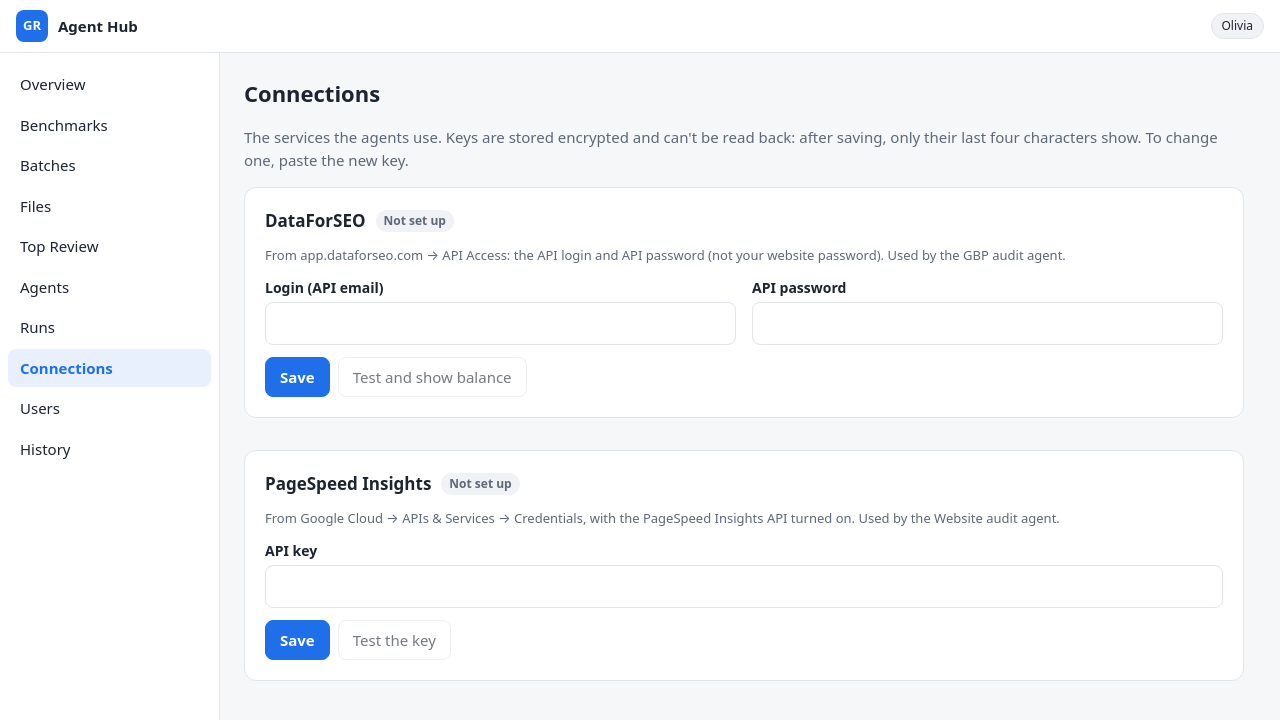
the Owner saves a login and password; only what was typed is sent
The width and height of the screenshot is (1280, 720).
Step 1. Type "me@gr.com" into the field labelled "Login (API email)" → (500, 323), box [265, 302, 736, 344]
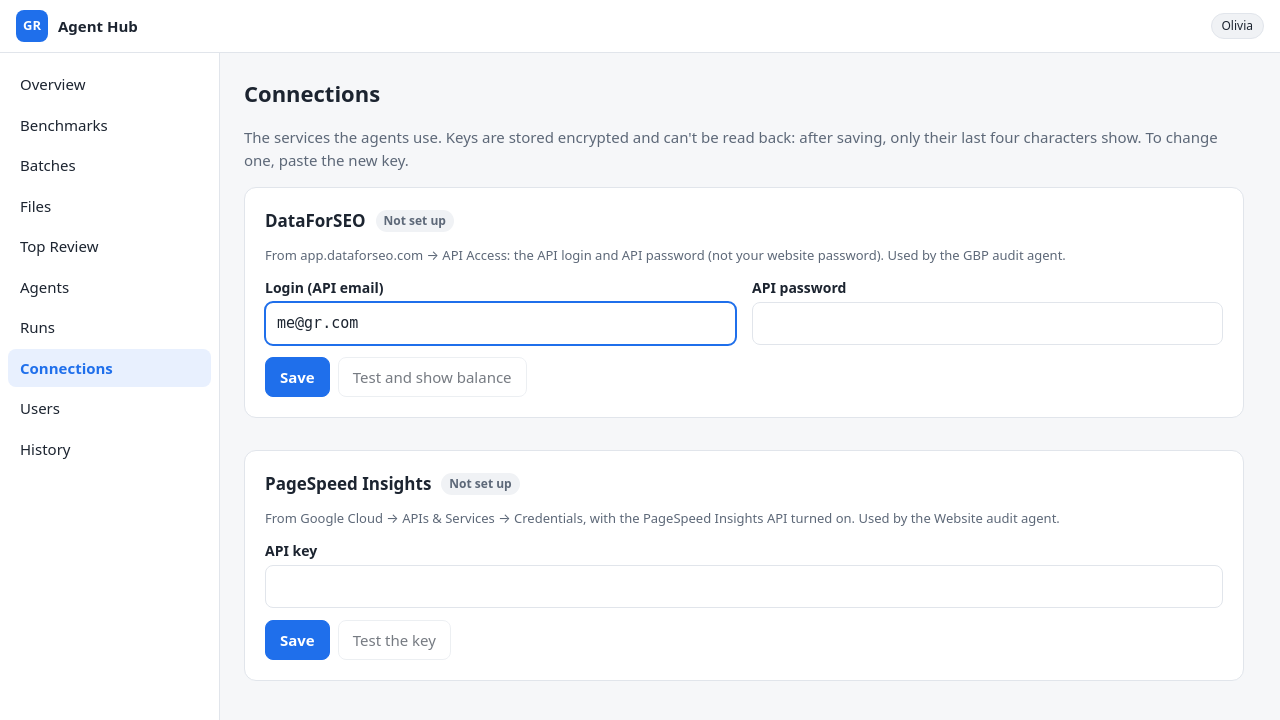
Step 2. Type "secret-9876" into the password field labelled "API password" → (988, 323), box [752, 302, 1223, 344]
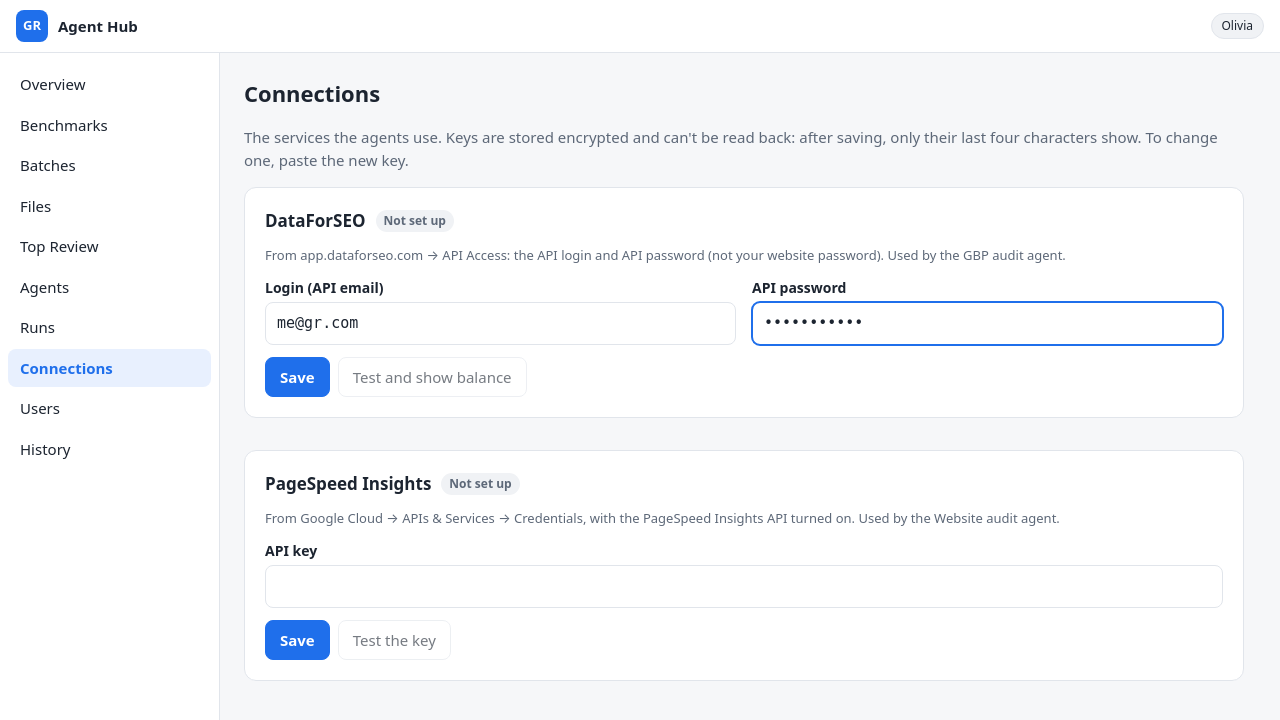
Step 3. Click the button "Save" below "Login (API email)" → click(297, 377), box [265, 356, 330, 397]
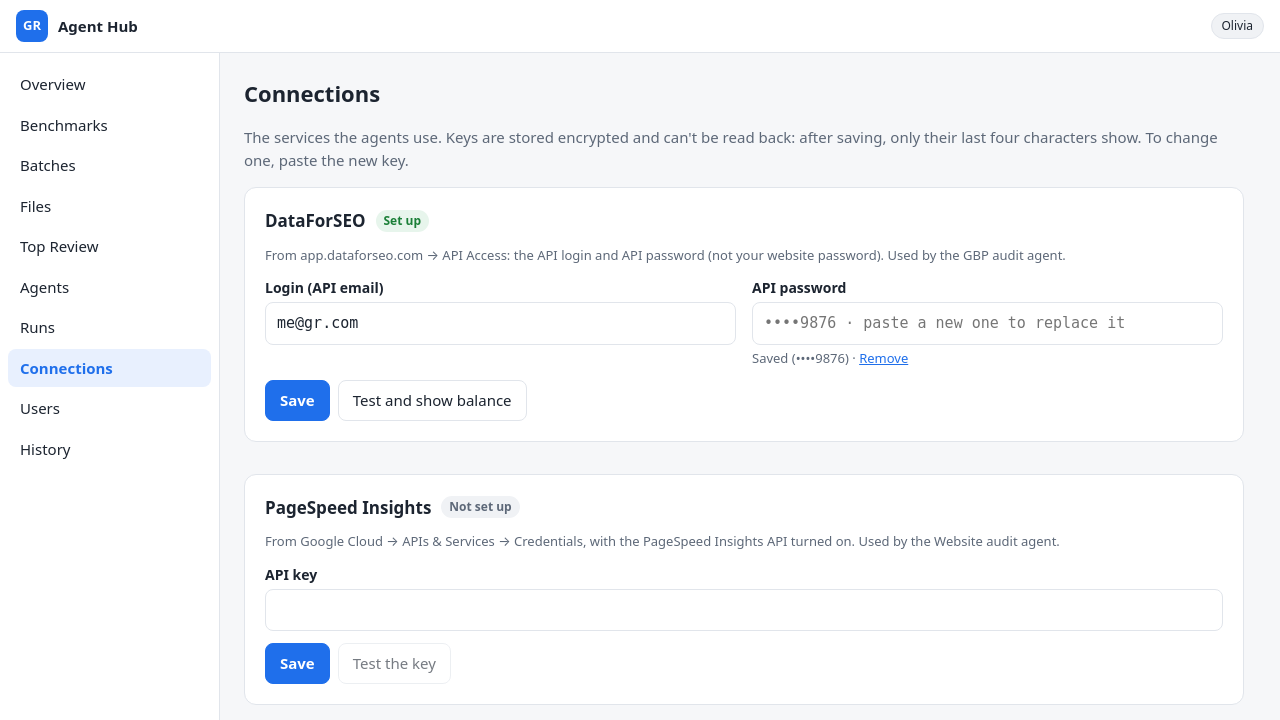
Check: the text "Set up" is shown, box [376, 210, 429, 232]
Check: the text "Saved (••••9876) · Remove" is shown, box [752, 348, 908, 368]
Check: the password field labelled "API password" is empty, box [752, 302, 1223, 344]
